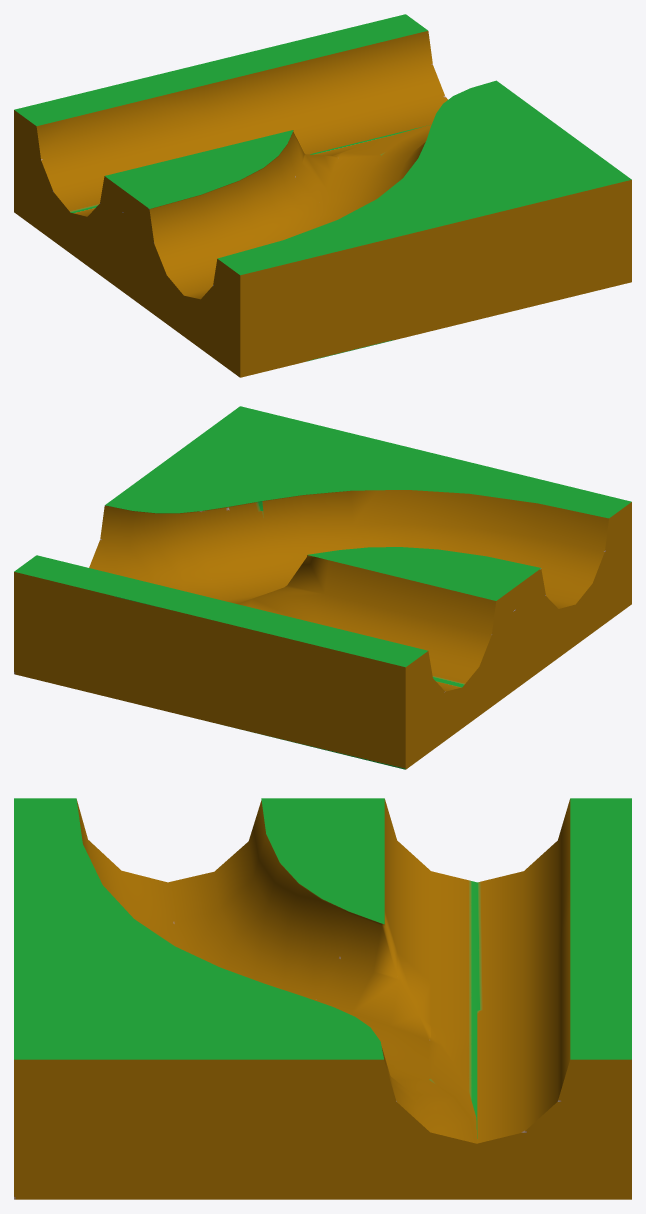
File: threeway2_2_mirror.fbx
3 views of the same model, one above another, from view 1: azimuth 30°, elevation 25°; view 2: azimuth 150°, elevation 25°; view 3: azimuth 270°, elevation 25° (orthographic). The views are drawn at different scales.
Visible parts, largest first — view 1: Cube_1_1.038; view 2: Cube_1_1.038; view 3: Cube_1_1.038.
Part boxes in pixels (box(x1,y1,x2,y2)): Cube_1_1.038: box(14, 14, 631, 377); Cube_1_1.038: box(14, 406, 631, 769); Cube_1_1.038: box(14, 798, 631, 1199).
Size of the model in its own units: 400 by 100 by 400.
